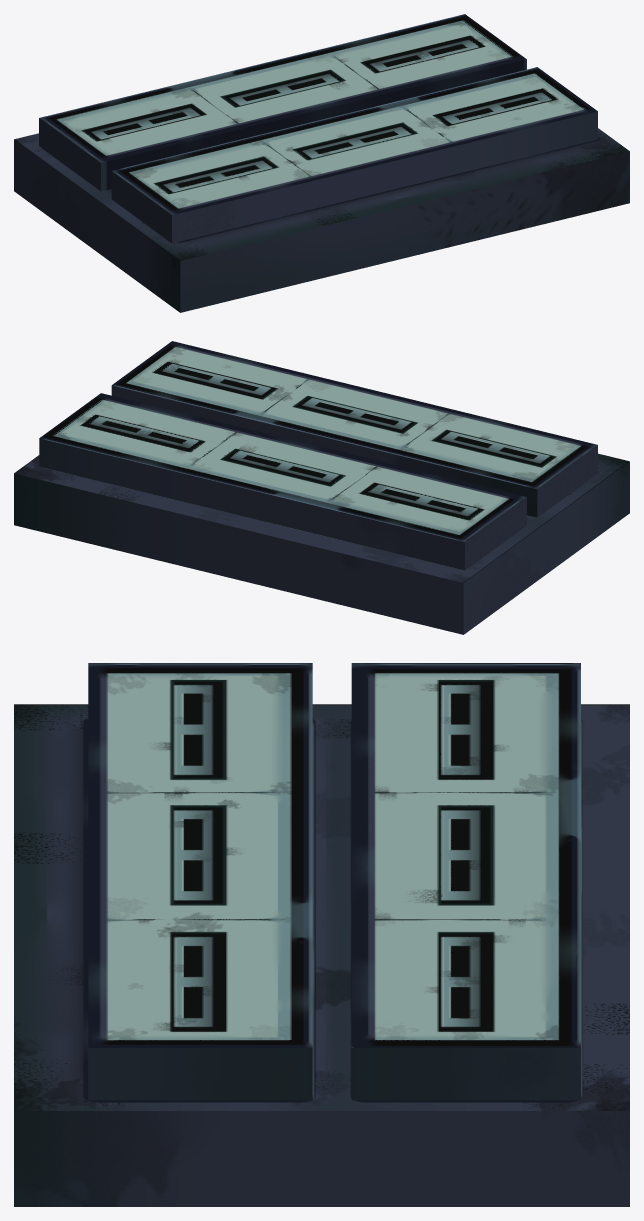
The model's file is Panel2.fbx.
3 views of the same model, one above another, from view 1: azimuth 30°, elevation 25°; view 2: azimuth 150°, elevation 25°; view 3: azimuth 270°, elevation 25° (orthographic). The views are drawn at different scales.
Parts seen in each view (by area): view 1: Panel Mesh; view 2: Panel Mesh; view 3: Panel Mesh.
Part boxes in pixels (x1=…): Panel Mesh: x1=14, y1=14, x2=629, y2=312; Panel Mesh: x1=14, y1=341, x2=629, y2=634; Panel Mesh: x1=14, y1=663, x2=629, y2=1206.
Bounding box in the file's own units: 123 × 20.86 × 78.52.
1 material, 1 textured.
